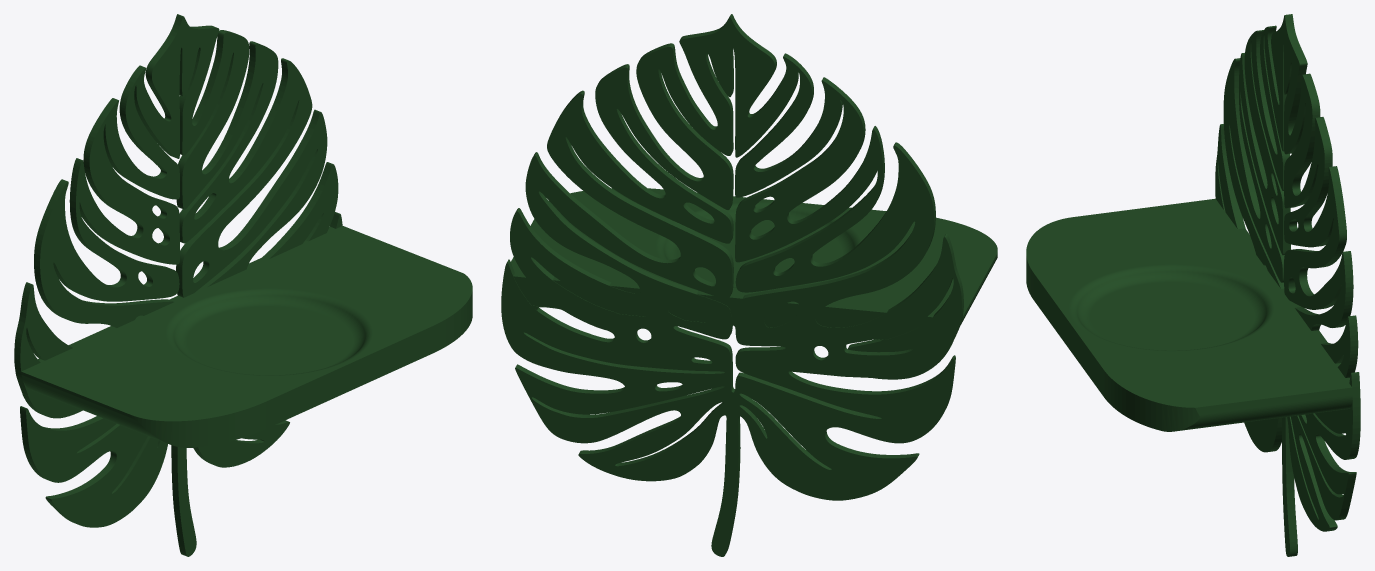
The picture shows the model from 3 angles, left to right: view 1: azimuth 30°, elevation 25°; view 2: azimuth 150°, elevation 25°; view 3: azimuth 270°, elevation 25°; orthographic projection.
Parts seen in each view (by area): view 1: obj_1_Leaf holder7; view 2: obj_1_Leaf holder7; view 3: obj_1_Leaf holder7.
Boxes of the visible parts, bbox=[...] form: obj_1_Leaf holder7: bbox=[14, 14, 472, 556]; obj_1_Leaf holder7: bbox=[501, 14, 997, 556]; obj_1_Leaf holder7: bbox=[1026, 14, 1360, 556].
Bounding box in the file's own units: 218 × 259 × 146.
